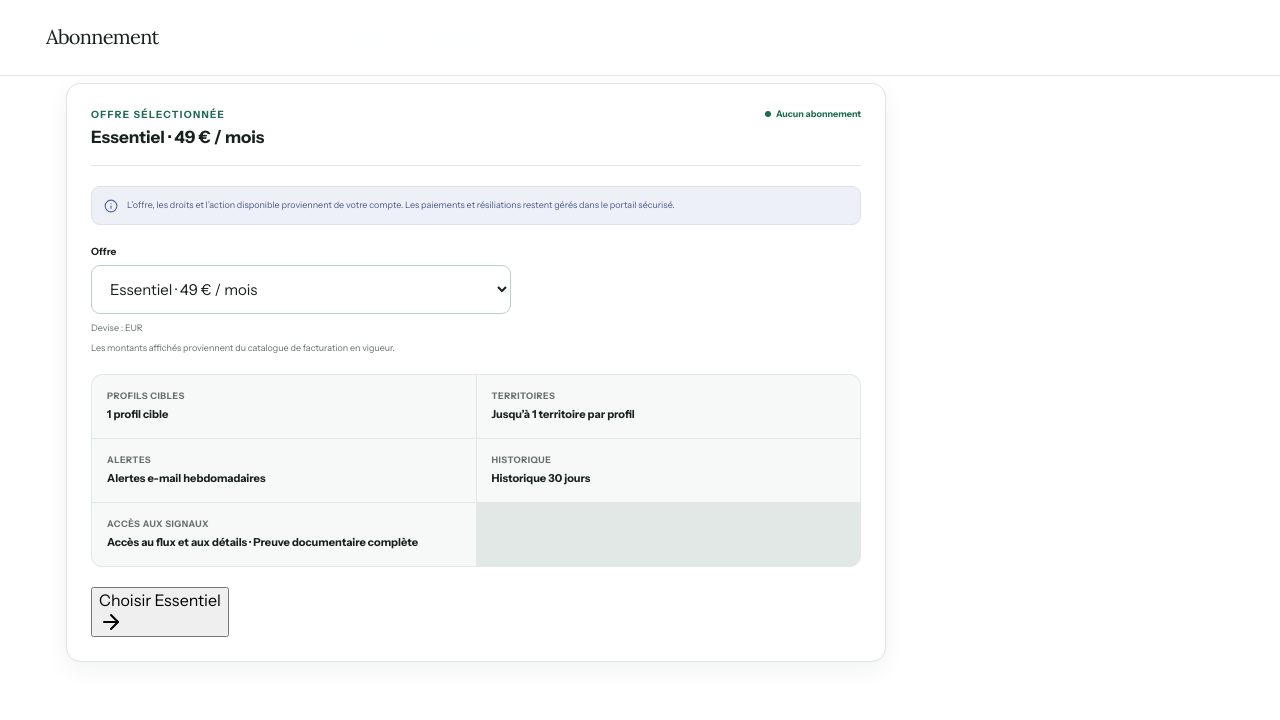
Test: facturation exacte sous autorité backend › refuse une destination non HTTPS renvoyée par le backend
(page scrolled)
Click the button "Choisir Essentiel". click: {"x": 160, "y": 612}
box: [91,587,229,637]
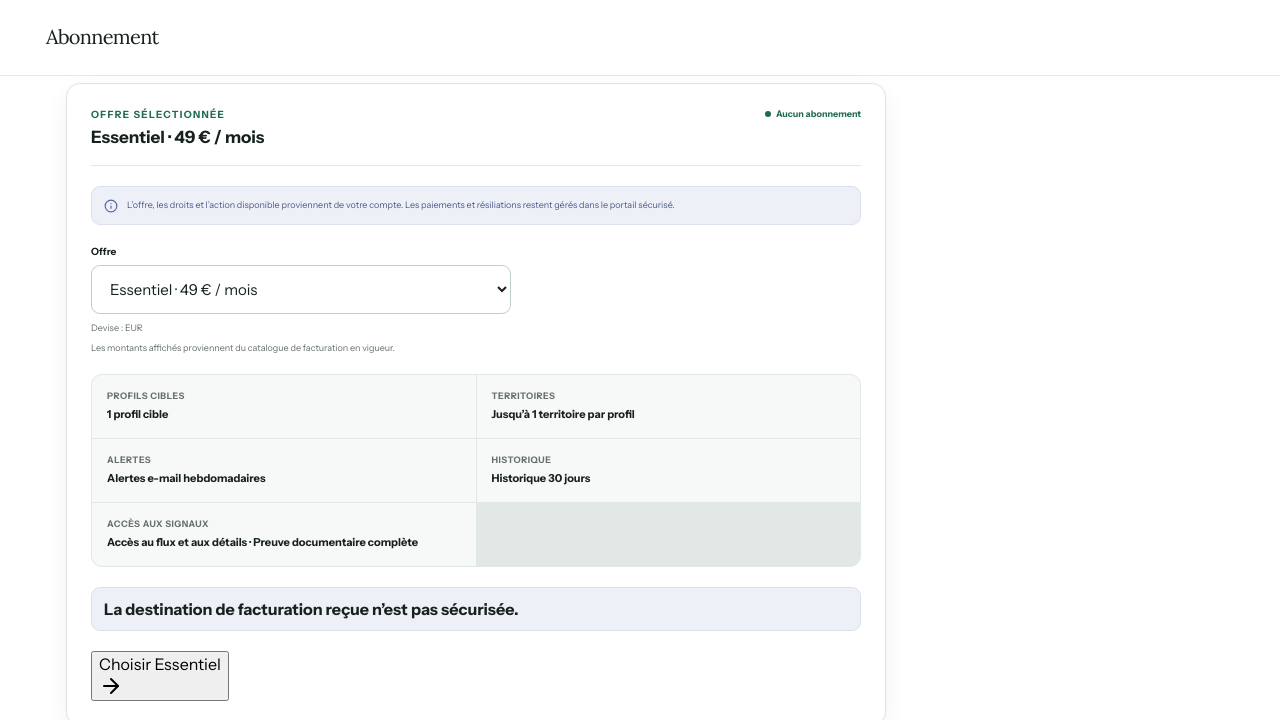
Check: the message "La destination de facturation reçue n’est pas sécurisée." is shown, box [91,587,861,631]
